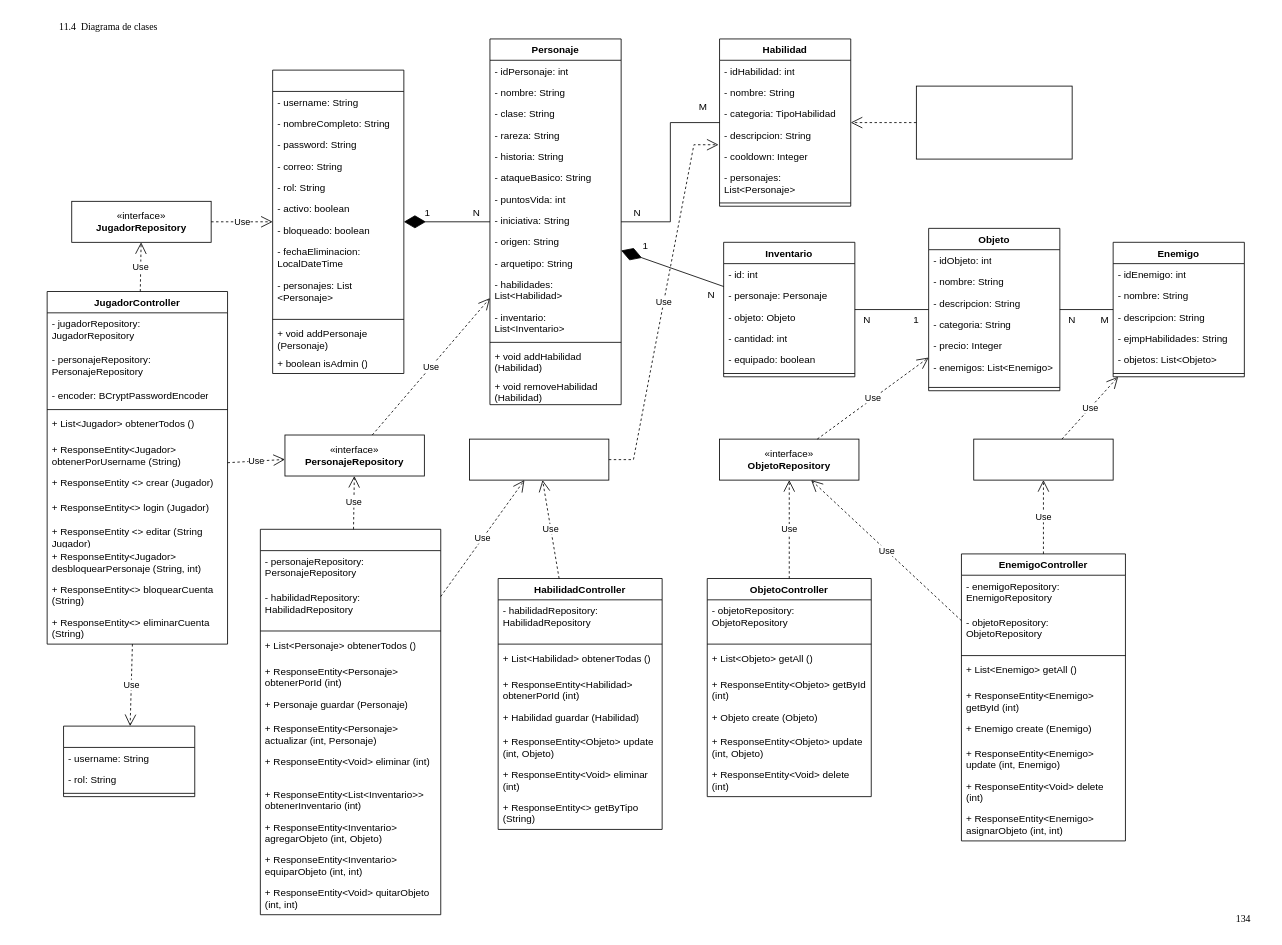
Some shapes in this 1282 by 945 pixel diagram are drawn without their labels. Here are the shapes that lost their labels. From the top down, the box of each, then its label:
(916, 85, 1072, 159): <<Enum.>> TipoHabilidad ACTIVA, PASIVA, TALENTO, DEFINITIVA
(272, 69, 404, 374): Jugador
(469, 438, 609, 480): «interface» HabilidadRepository
(973, 438, 1113, 480): «interface» EnemigoRepository
(260, 528, 441, 915): PersonajeController
(63, 725, 195, 797): LoginResponse
